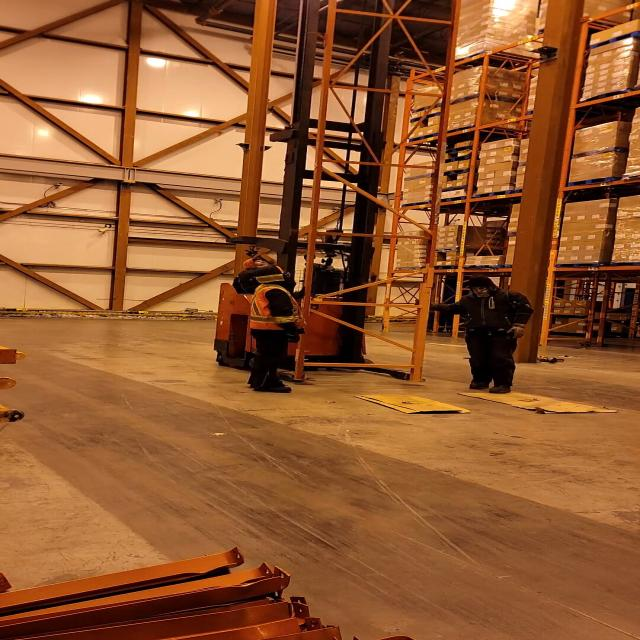forklift: (206, 125, 427, 386)
human: (418, 274, 536, 396), (238, 265, 306, 396), (228, 256, 277, 294)
objectofinterest: (288, 16, 454, 384), (452, 388, 620, 416), (353, 392, 471, 416)
